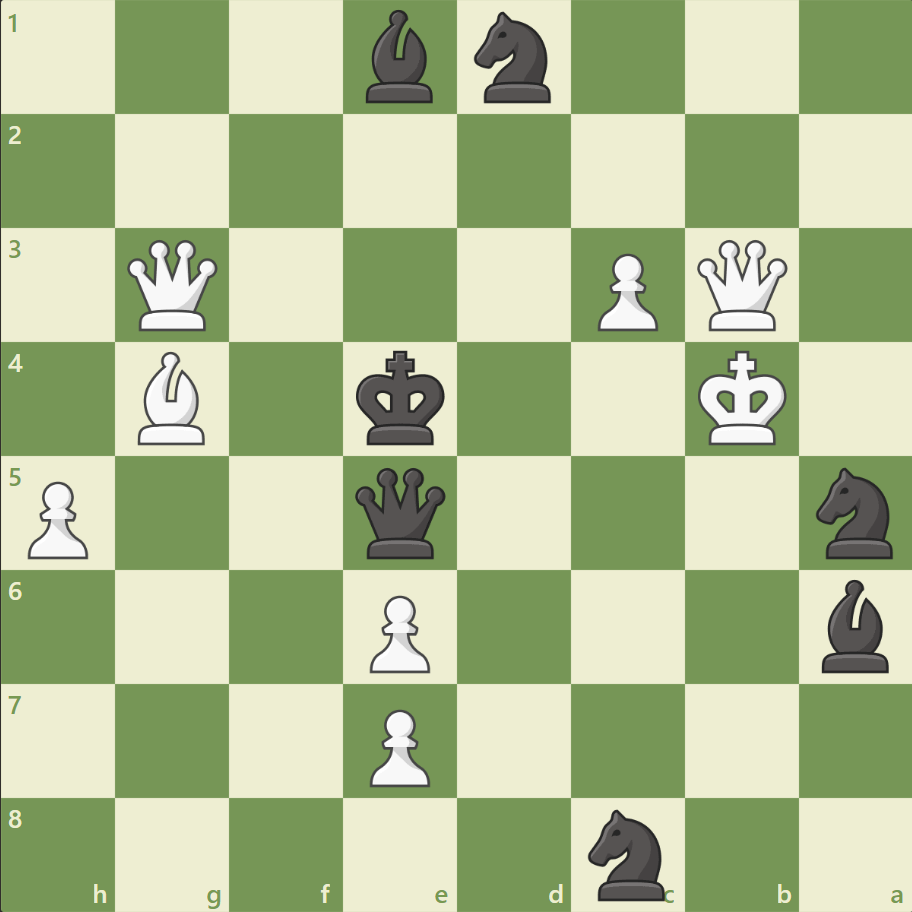B: (131, 347, 215, 449)
K: (692, 344, 792, 452)
P: (20, 473, 95, 564), (361, 700, 435, 791), (361, 586, 435, 677), (588, 246, 662, 337)
Q: (691, 236, 790, 335), (124, 236, 223, 335)
b: (358, 6, 442, 109), (812, 574, 896, 676)
k: (351, 344, 451, 452)
n: (806, 461, 903, 564), (465, 7, 562, 110), (579, 802, 676, 904)
q: (351, 463, 450, 562)
